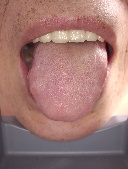tongue: (25, 46, 109, 123)
